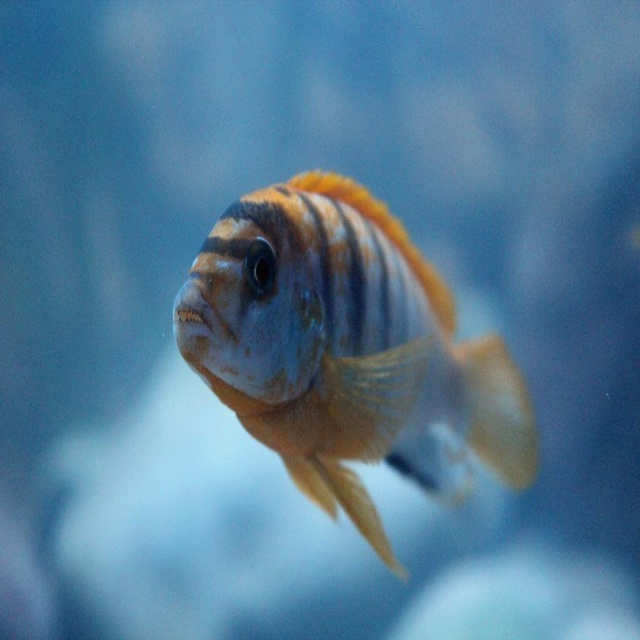Goldfish: (176, 196, 526, 584)
